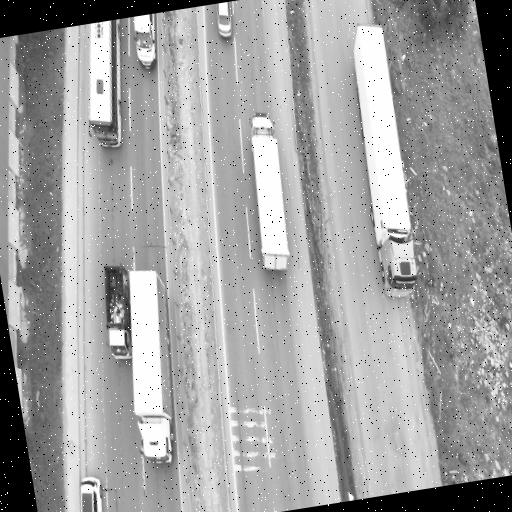bus: (89, 19, 121, 146)
car: (80, 477, 102, 511), (216, 1, 232, 37)
truck: (354, 24, 417, 297), (130, 270, 173, 463), (250, 113, 290, 271), (105, 266, 132, 358)
